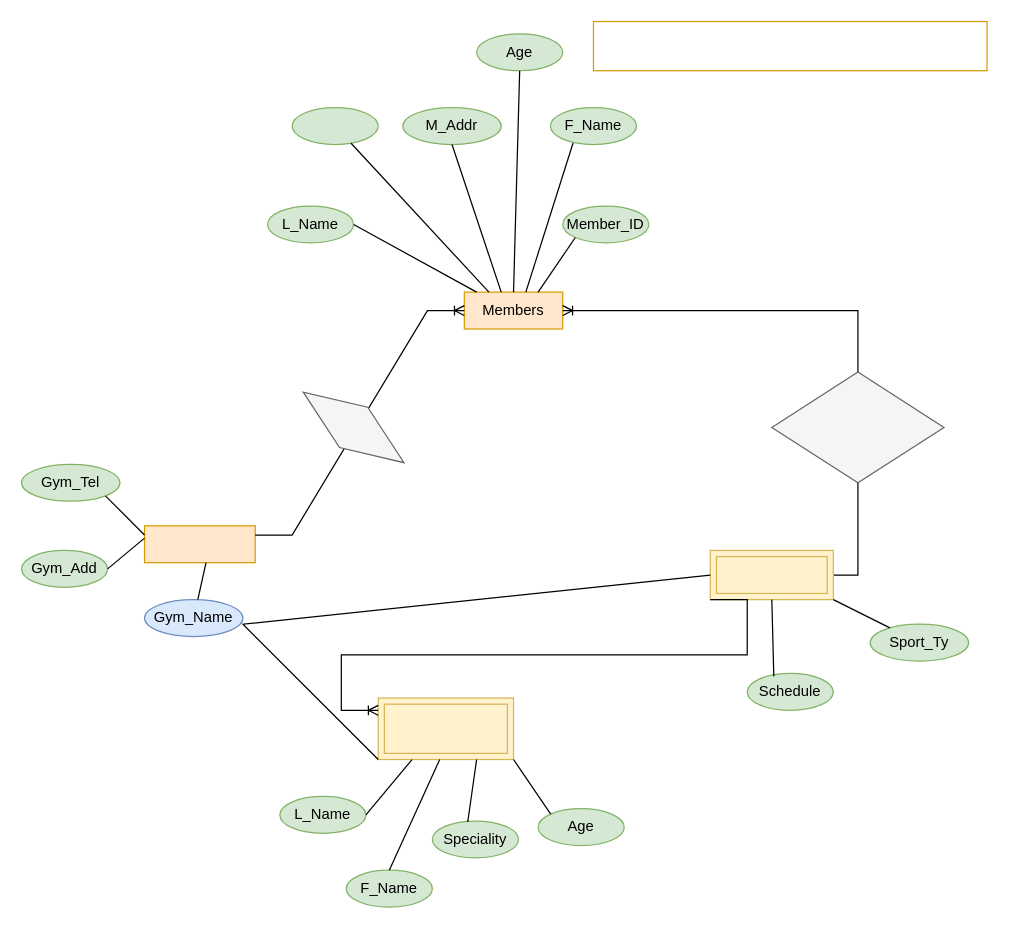
Some shapes in this 1009 by 929 pixel diagram are drawn without their labels. Each missing label, with the centre of its shape:
Attendance not more than 20member: point (857, 427)
Coaches: point (445, 728)
DOB: point (334, 125)
ERD FOR STUDENTS REGISTERING FOR GYM: point (789, 45)
Gymnaisum: point (199, 544)
Register: point (353, 426)
Sections: point (771, 574)
